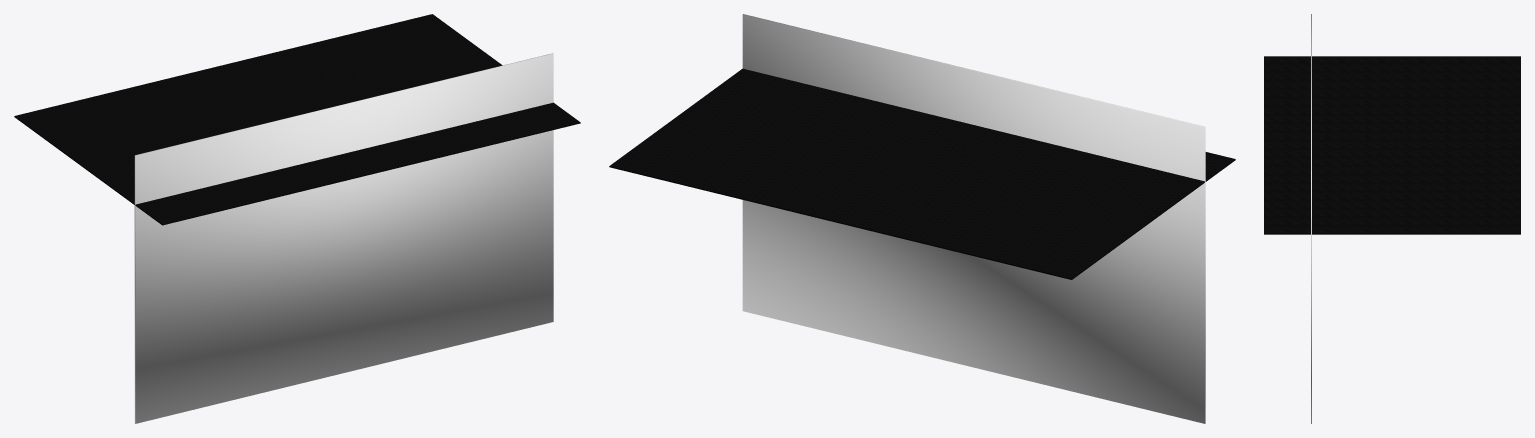
File: SM_Ground_.fbx
3 renders of one model, left to right at view 1: azimuth 30°, elevation 25°; view 2: azimuth 150°, elevation 25°; view 3: azimuth 270°, elevation 25°, orthographic. The views are drawn at different scales.
Parts seen in each view (by area): view 1: SM_Ground__ConvexHulls, SM_Ground_; view 2: SM_Ground__ConvexHulls, SM_Ground_; view 3: SM_Ground_, SM_Ground__ConvexHulls.
Boxes of the visible parts, <box> form: SM_Ground__ConvexHulls: <box>134,53,553,423</box>; SM_Ground_: <box>14,14,580,225</box>; SM_Ground__ConvexHulls: <box>742,14,1205,423</box>; SM_Ground_: <box>609,68,1235,279</box>; SM_Ground_: <box>1264,56,1520,234</box>; SM_Ground__ConvexHulls: <box>1311,14,1311,423</box>.
Bounding box in the file's own units: 750 × 460 × 460.
